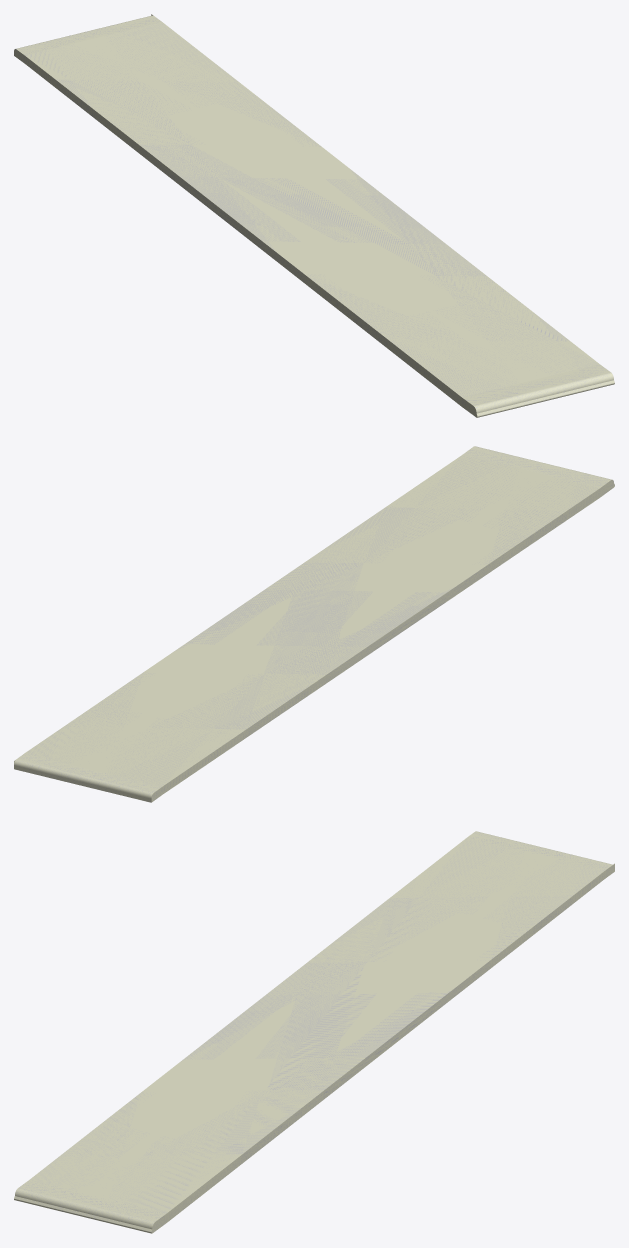
File: original-7.obj
3 views of the same model, one above another, from view 1: azimuth 30°, elevation 25°; view 2: azimuth 150°, elevation 25°; view 3: azimuth 330°, elevation 25° (orthographic).
Visible parts, largest first — view 1: Group7/mesh15/mesh15-geometry#mesh15-geometry; view 2: Group7/mesh15/mesh15-geometry#mesh15-geometry; view 3: Group7/mesh15/mesh15-geometry#mesh15-geometry.
Part boxes in pixels (x1,y1,x2,y2): Group7/mesh15/mesh15-geometry#mesh15-geometry: [14, 14, 614, 417]; Group7/mesh15/mesh15-geometry#mesh15-geometry: [14, 446, 614, 802]; Group7/mesh15/mesh15-geometry#mesh15-geometry: [14, 831, 614, 1233].
Bounding box in the file's own units: 0.3223 × 0.0705 × 1.88.
